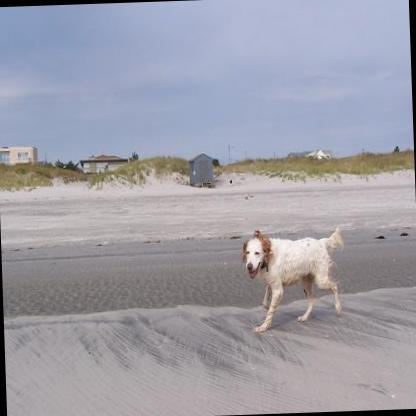English_setter: (239, 231, 344, 332)
